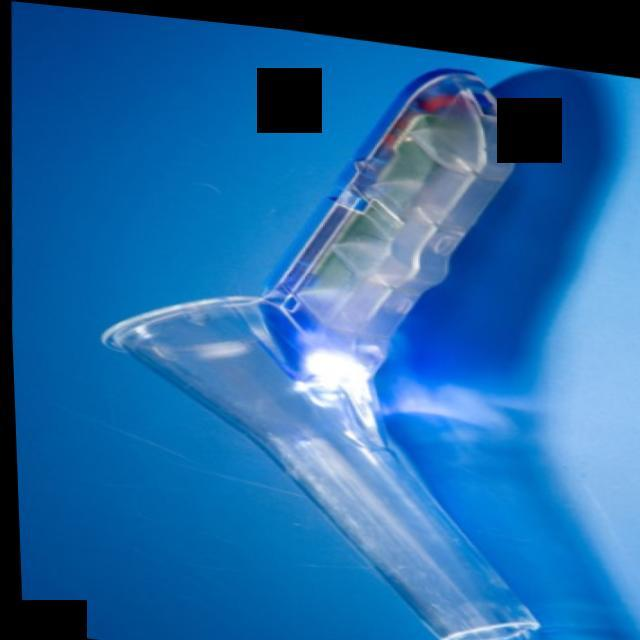Protoscope: (61, 14, 620, 640)
